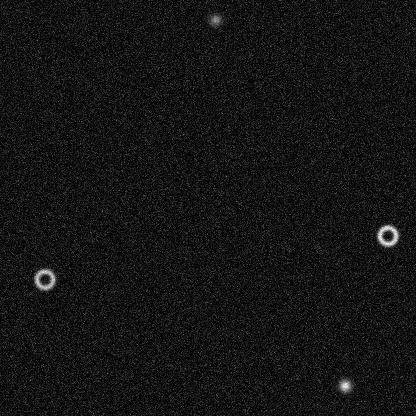Ring: (32, 267, 56, 291), (375, 223, 399, 247)
Spot: (207, 11, 223, 27), (336, 377, 352, 393)
